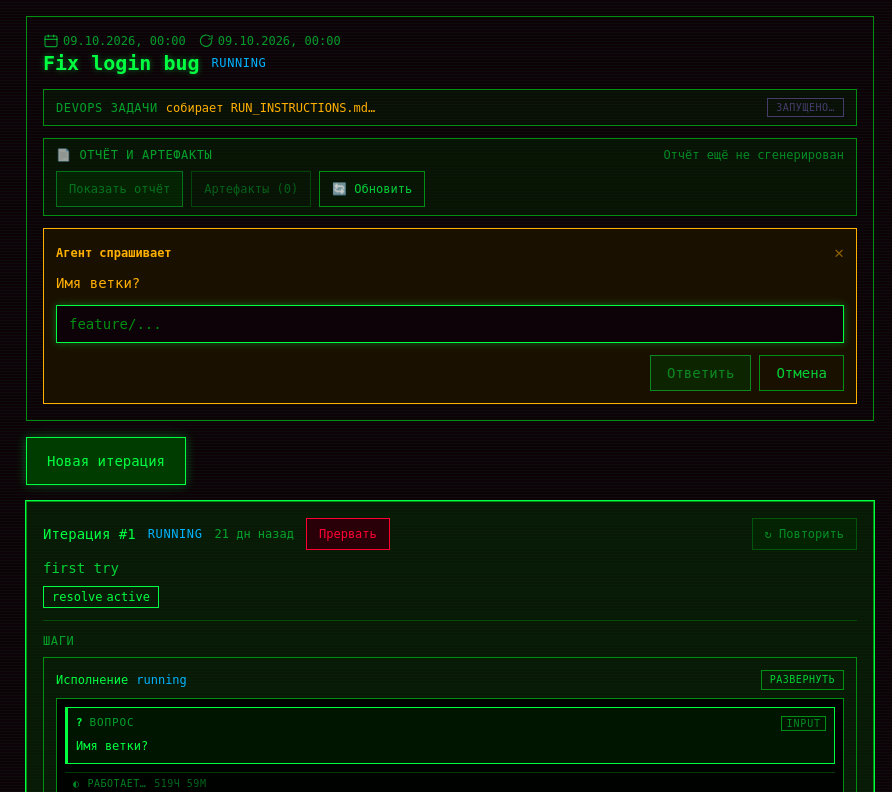
Test: TaskDetail — интерактивный вопрос (inline) › pending input-вопрос: inline с текстовым полем
Expected: the heading "Fix login bug" is shown, x1=43 y1=49 x2=200 y2=77
Expected: the button "Ответить" is disabled, x1=650 y1=355 x2=751 y2=391
Type "feature/login" into the field named "Ответ" at coordinates (450, 324), box x1=56 y1=305 x2=844 y2=343
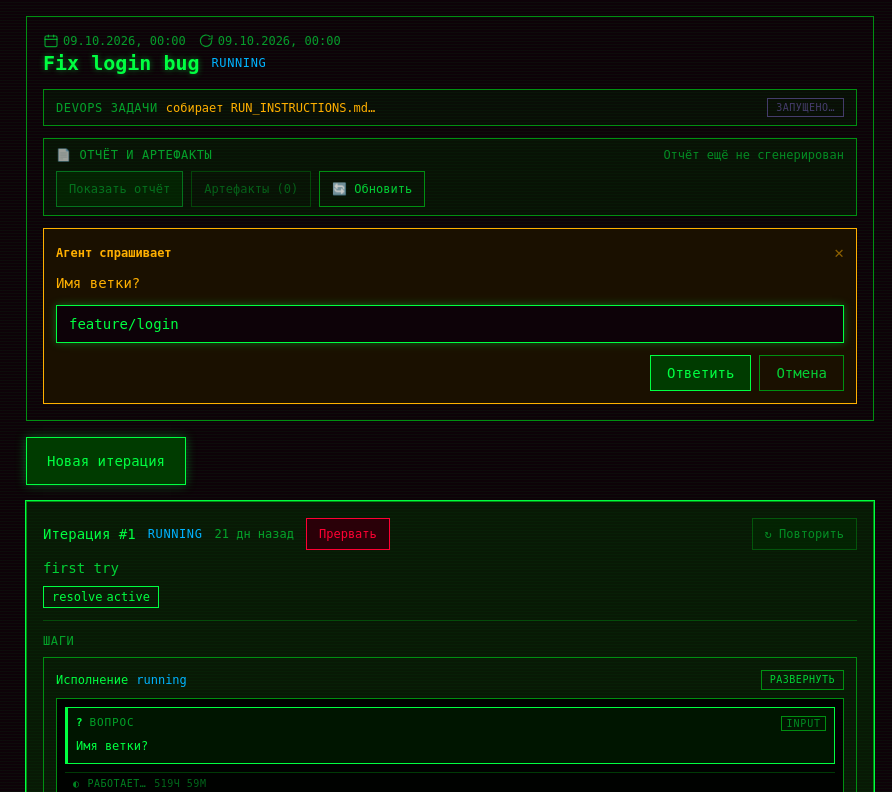
Expected: the button "Ответить" is enabled, x1=650 y1=355 x2=751 y2=391
